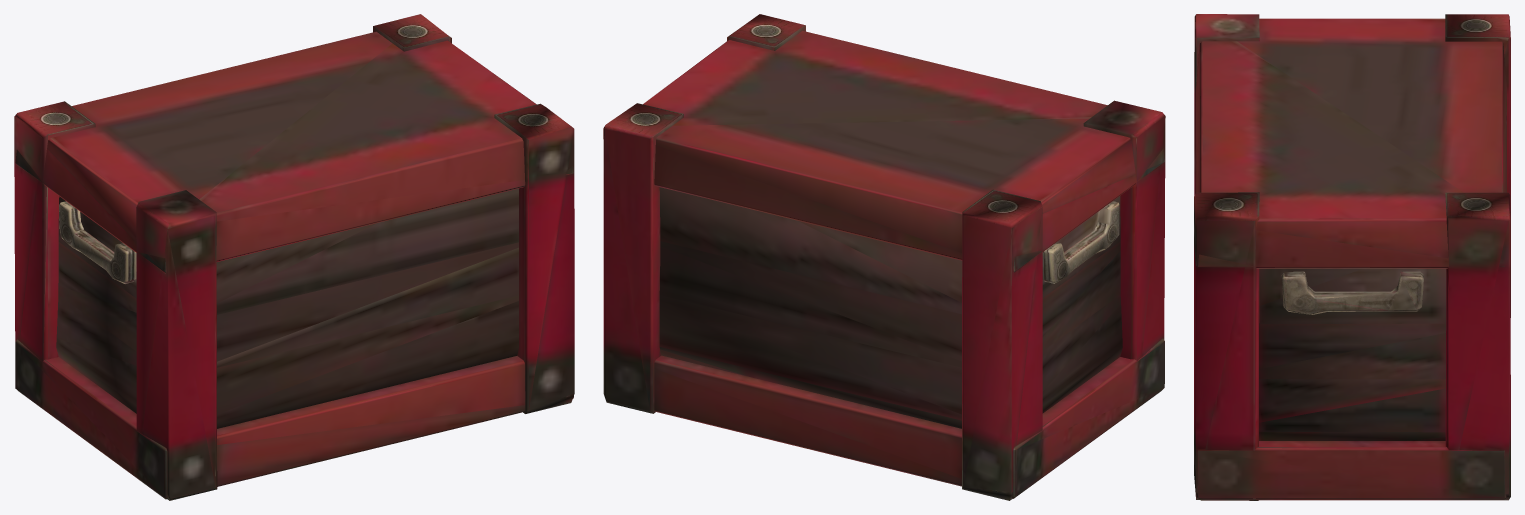
Rendered from crate.glb.
3 renders of one model, left to right at view 1: azimuth 30°, elevation 25°; view 2: azimuth 150°, elevation 25°; view 3: azimuth 270°, elevation 25°, orthographic. The views are drawn at different scales.
Size of the model in its own units: 0.9312 by 0.6021 by 0.6069.
Materials: 1 (1 with a texture image).
